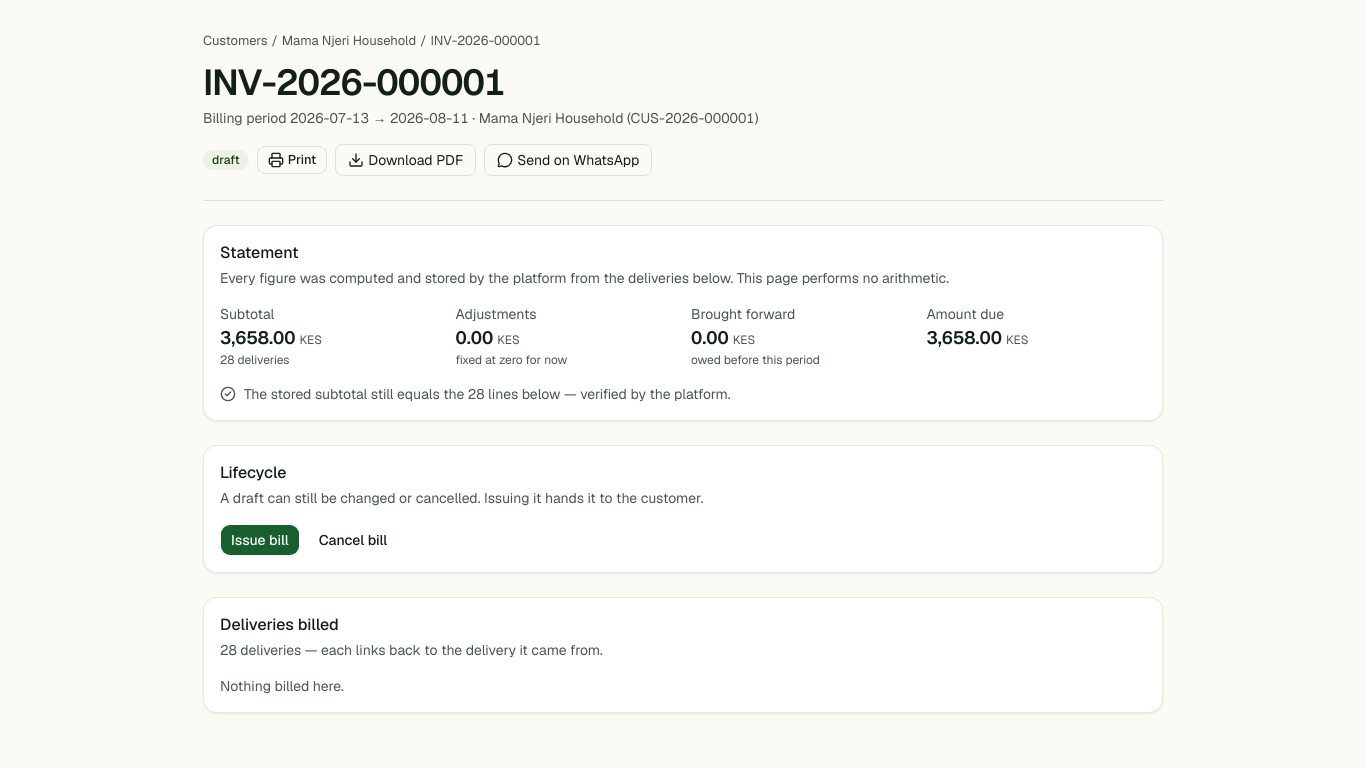
Test: the monthly bill › asks before issuing a draft, naming what cannot be undone
This screenshot has width=1366, height=768.
Click the button "Issue bill" at [260, 540], box [220, 524, 300, 556]
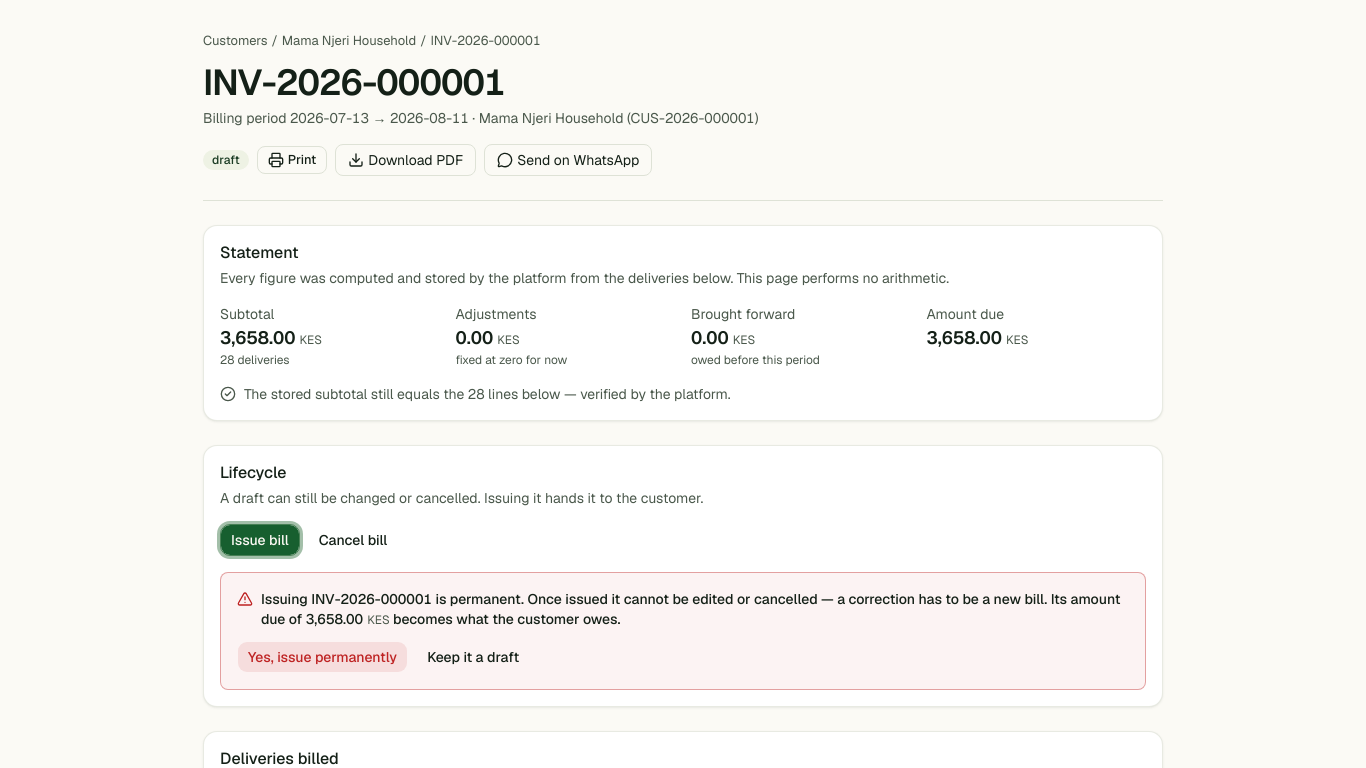
Expected: the text "cannot be edited or cancelled" is shown, [261, 590, 1120, 628]
